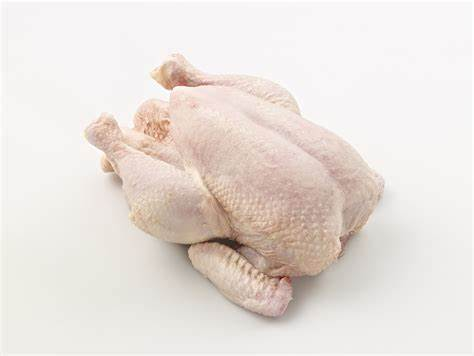Chicken: (76, 46, 394, 328)
